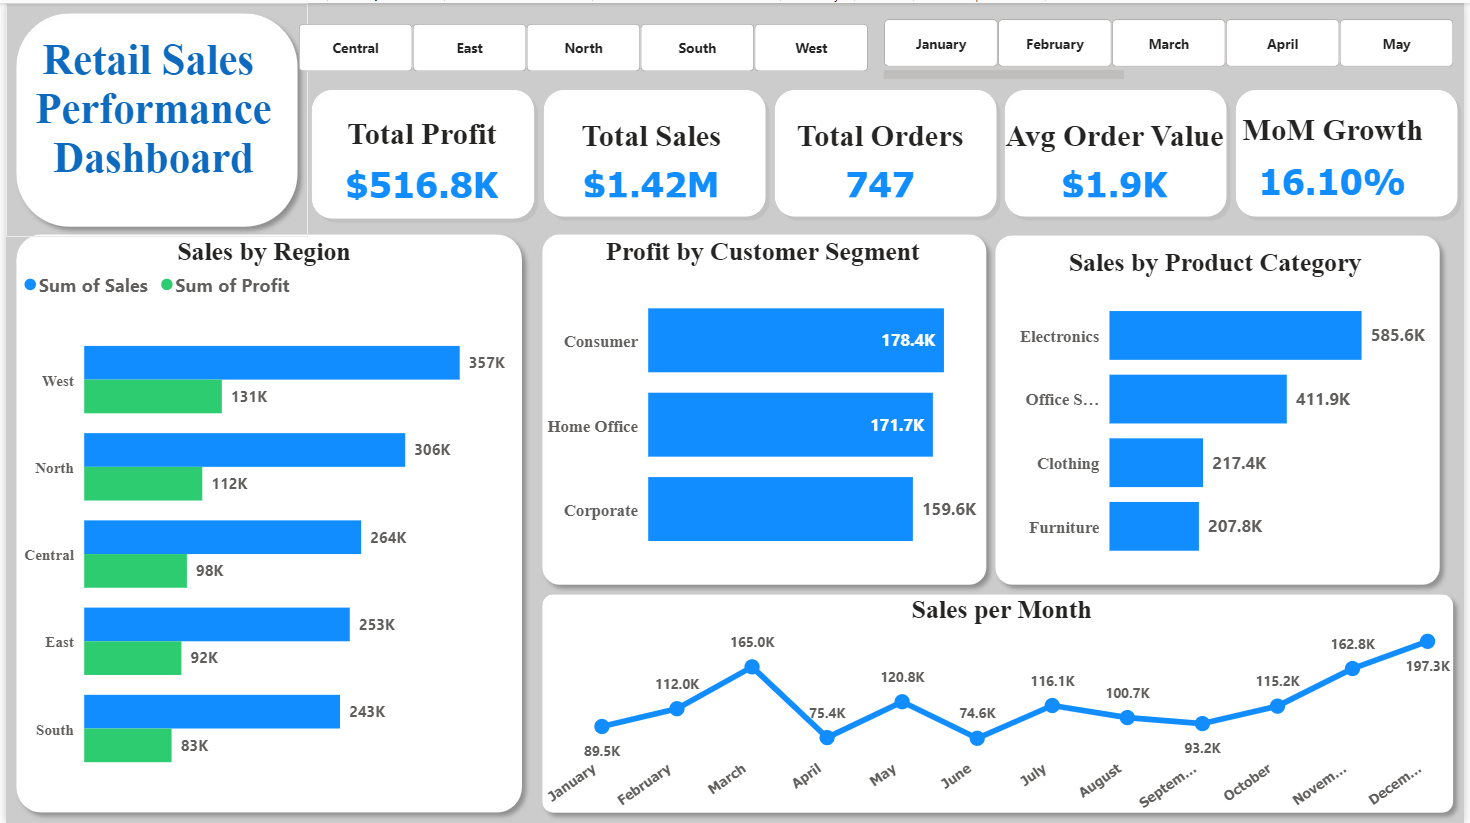

This screenshot's page, from the dashboard's own definition file:
{"tool":"powerbi","page":{"name":"Page 1","canvas":[1280,720],"ordinal":0},"visuals":[{"type":"shape","box":[859.6,194.9,408.3,324.9],"z":0},{"type":"shape","box":[462,510.2,817.8,209.8],"z":1000},{"type":"shape","box":[461.9,194,408,325.8],"z":2000},{"type":"shape","box":[0,194.2,462,525.8],"z":3000},{"type":"shape","box":[669.6,71.2,205,121.7],"z":4000},{"type":"shape","box":[466.9,71.2,205,121.7],"z":5000},{"type":"lineChart","title":" Sales  per Month","fields":{"Y":["Sum(Raw_Sales_Data.Sales )"],"Category":["Raw_Sales_Data.Order Date.Variation.Date Hierarchy.Month"]},"box":[469.1,520.2,810.7,199.8],"z":6000},{"type":"shape","box":[872.3,71.2,205,121.7],"z":7000},{"type":"shape","box":[263.6,71.2,205.5,123.3],"z":8000},{"type":"cardVisual","title":"Total Profit","fields":{"Data":["Raw_Sales_Data.Total Profit"]},"box":[265,100,200,90],"z":9000},{"type":"cardVisual","title":"Total Sales","fields":{"Data":["Raw_Sales_Data.Total Sales"]},"box":[456.7,101.7,220,86.7],"z":10000},{"type":"cardVisual","title":"Avg Order Value","fields":{"Data":["Raw_Sales_Data.Avg Sales per Order"]},"box":[853.3,101.7,240,86.7],"z":11000},{"type":"shape","box":[0,0,265,205.5],"z":12000},{"type":"textbox","box":[0,24.1,249.4,147.4],"z":13000},{"type":"cardVisual","title":"Total Orders","fields":{"Data":["Raw_Sales_Data.Total Orders"]},"box":[640,101.7,255,86.7],"z":14000},{"type":"clusteredBarChart","title":"Profit  by Customer Segment","fields":{"Category":["Raw_Sales_Data.Customer Segment"],"Y":["Sum(Raw_Sales_Data.Profit )"]},"box":[469.1,205.5,391.2,304.7],"z":15000},{"type":"clusteredBarChart","title":"Sales by Region","fields":{"Category":["Raw_Sales_Data.Region"],"Y":["Sum(Raw_Sales_Data.Sales )","Sum(Raw_Sales_Data.Profit )"]},"box":[9.9,205.5,433.7,498.9],"z":16000},{"type":"clusteredBarChart","title":" Sales  by Product Category","fields":{"Category":["Raw_Sales_Data.Product Category"],"Y":["Sum(Raw_Sales_Data.Sales )"]},"box":[871.9,215.1,379.3,295],"z":17000},{"type":"advancedSlicerVisual","fields":{"Values":["Raw_Sales_Data.Region"]},"box":[252.3,12.8,513.1,65.2],"z":18000},{"type":"advancedSlicerVisual","fields":{"Values":["Raw_Sales_Data.Order Date.Variation.Date Hierarchy.Month"]},"box":[765.4,8.5,514.5,65.2],"z":19000},{"type":"shape","box":[1075,71.2,205,121.7],"z":20000},{"type":"cardVisual","title":"MoM Growth","fields":{"Data":["Raw_Sales_Data.MoM Sales Growth %"]},"box":[1066.7,96.3,196.7,91.7],"z":21000}]}

Visuals, with their boxes in screenshot pixels (x1, y1, x2, y2), scaled from the page's 1280x720 canvas onto the 1470x823 screenshot:
shape: bbox(987, 223, 1456, 594)
shape: bbox(531, 583, 1469, 822)
shape: bbox(530, 222, 999, 594)
shape: bbox(0, 222, 531, 822)
shape: bbox(769, 81, 1004, 220)
shape: bbox(536, 81, 772, 220)
" Sales  per Month" lineChart: bbox(539, 595, 1469, 822)
shape: bbox(1002, 81, 1237, 220)
shape: bbox(303, 81, 539, 222)
"Total Profit" cardVisual: bbox(304, 114, 534, 217)
"Total Sales" cardVisual: bbox(524, 116, 777, 215)
"Avg Order Value" cardVisual: bbox(980, 116, 1256, 215)
shape: bbox(0, 0, 304, 235)
textbox: bbox(0, 28, 286, 196)
"Total Orders" cardVisual: bbox(735, 116, 1028, 215)
"Profit  by Customer Segment" clusteredBarChart: bbox(539, 235, 988, 583)
"Sales by Region" clusteredBarChart: bbox(11, 235, 509, 805)
" Sales  by Product Category" clusteredBarChart: bbox(1001, 246, 1437, 583)
advancedSlicerVisual - Raw_Sales_Data.Region: bbox(290, 15, 879, 89)
advancedSlicerVisual - Raw_Sales_Data.Order Date.Variation.Date Hierarchy.Month: bbox(879, 10, 1469, 84)
shape: bbox(1235, 81, 1469, 220)
"MoM Growth" cardVisual: bbox(1225, 110, 1451, 215)
